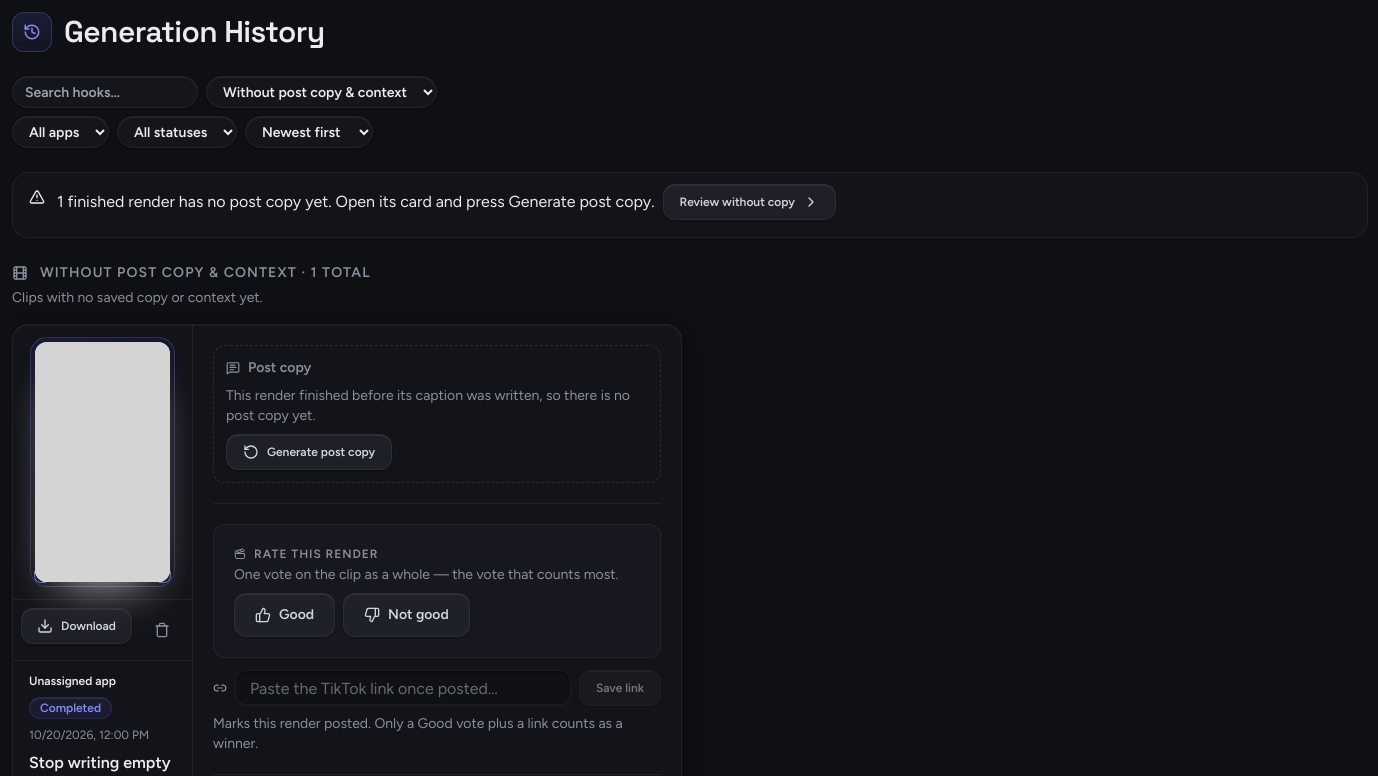
Test case: history kit-less rescue flow › a refused Generate names the next step instead of dying silently
The image size is (1378, 776).
Click the button with test id "history-generate-post-copy-button-kitless-1" at (309, 452), box [226, 434, 392, 470]
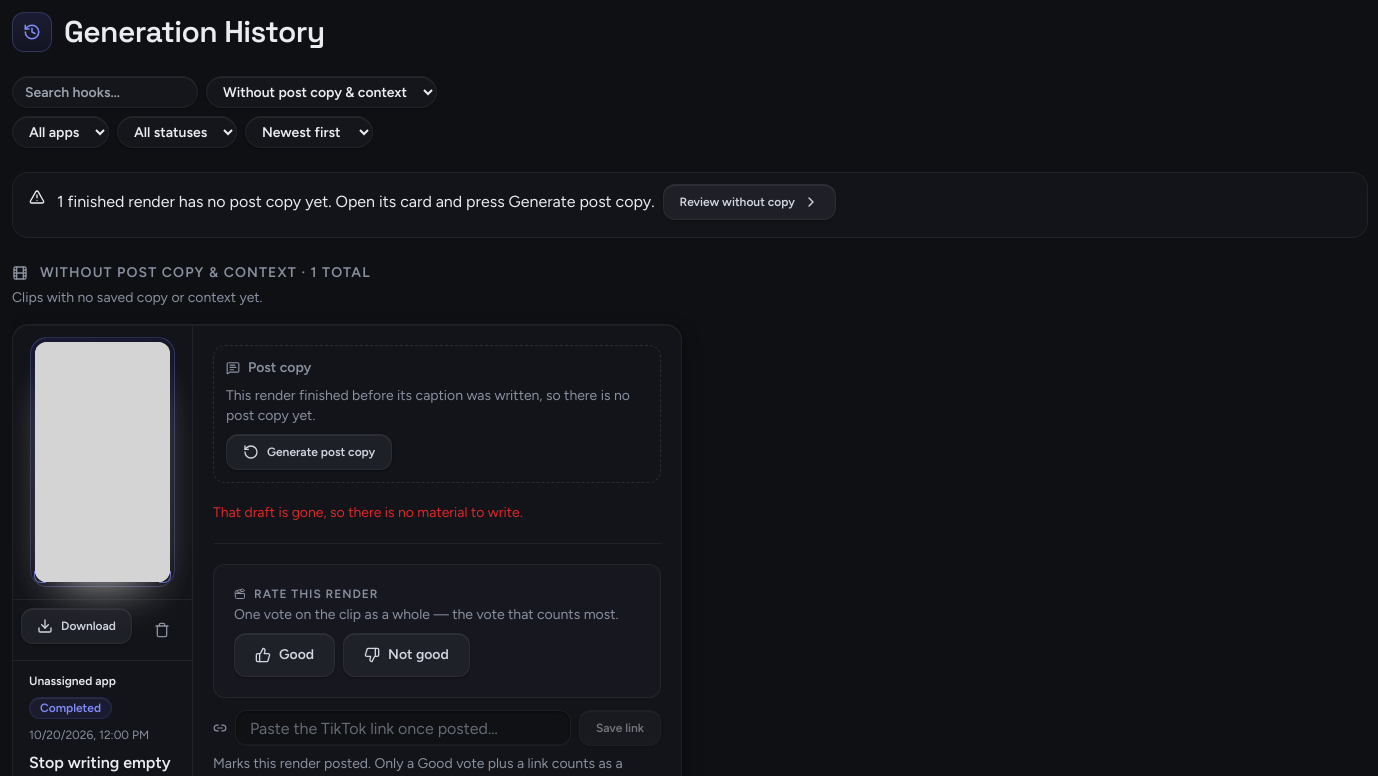
Check: the message with test id "history-attention" is shown, box [12, 172, 1368, 238]
Check: the text "That draft is gone" is shown, box [213, 504, 523, 521]
